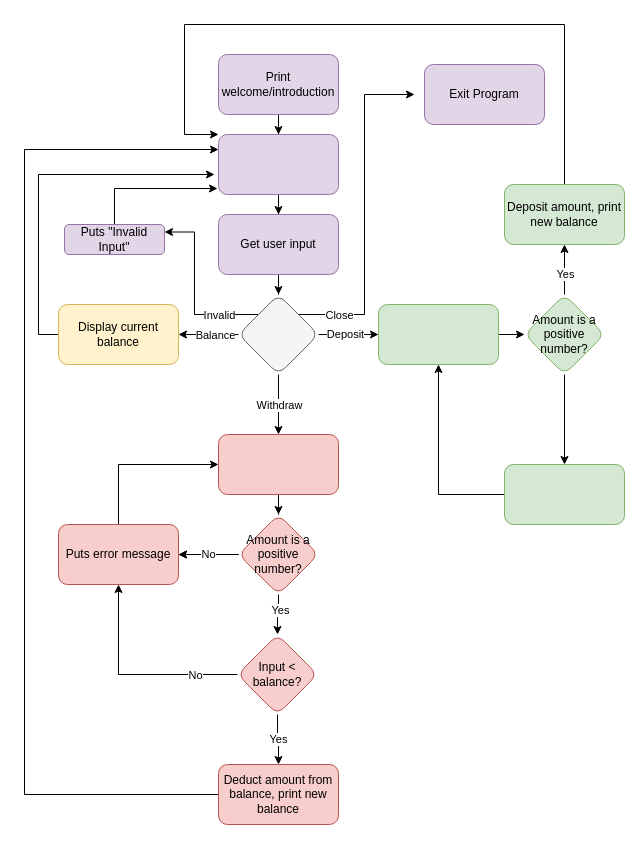
This 642x842 diagram has some shape labels left out. The shapes that lost their labels are listed below. From the top down, each one's centre as x and y in pixels, then its label:
At (x=278, y=164): "Print options for what the user can do (balance, withdraw, deposit, close)".
At (x=278, y=334): "Input Type?".
At (x=438, y=334): "Ask user how much to deposit, get amount".
At (x=278, y=464): "Ask user how much they want to withdraw, get amount".
At (x=564, y=494): "Print error".
